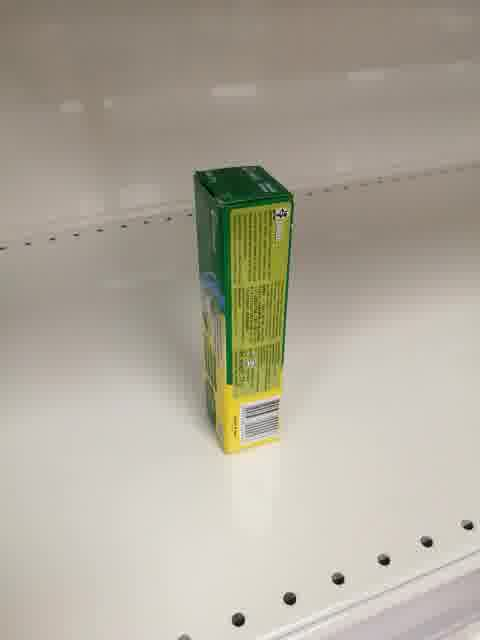toothpaste: (194, 165, 294, 453)
